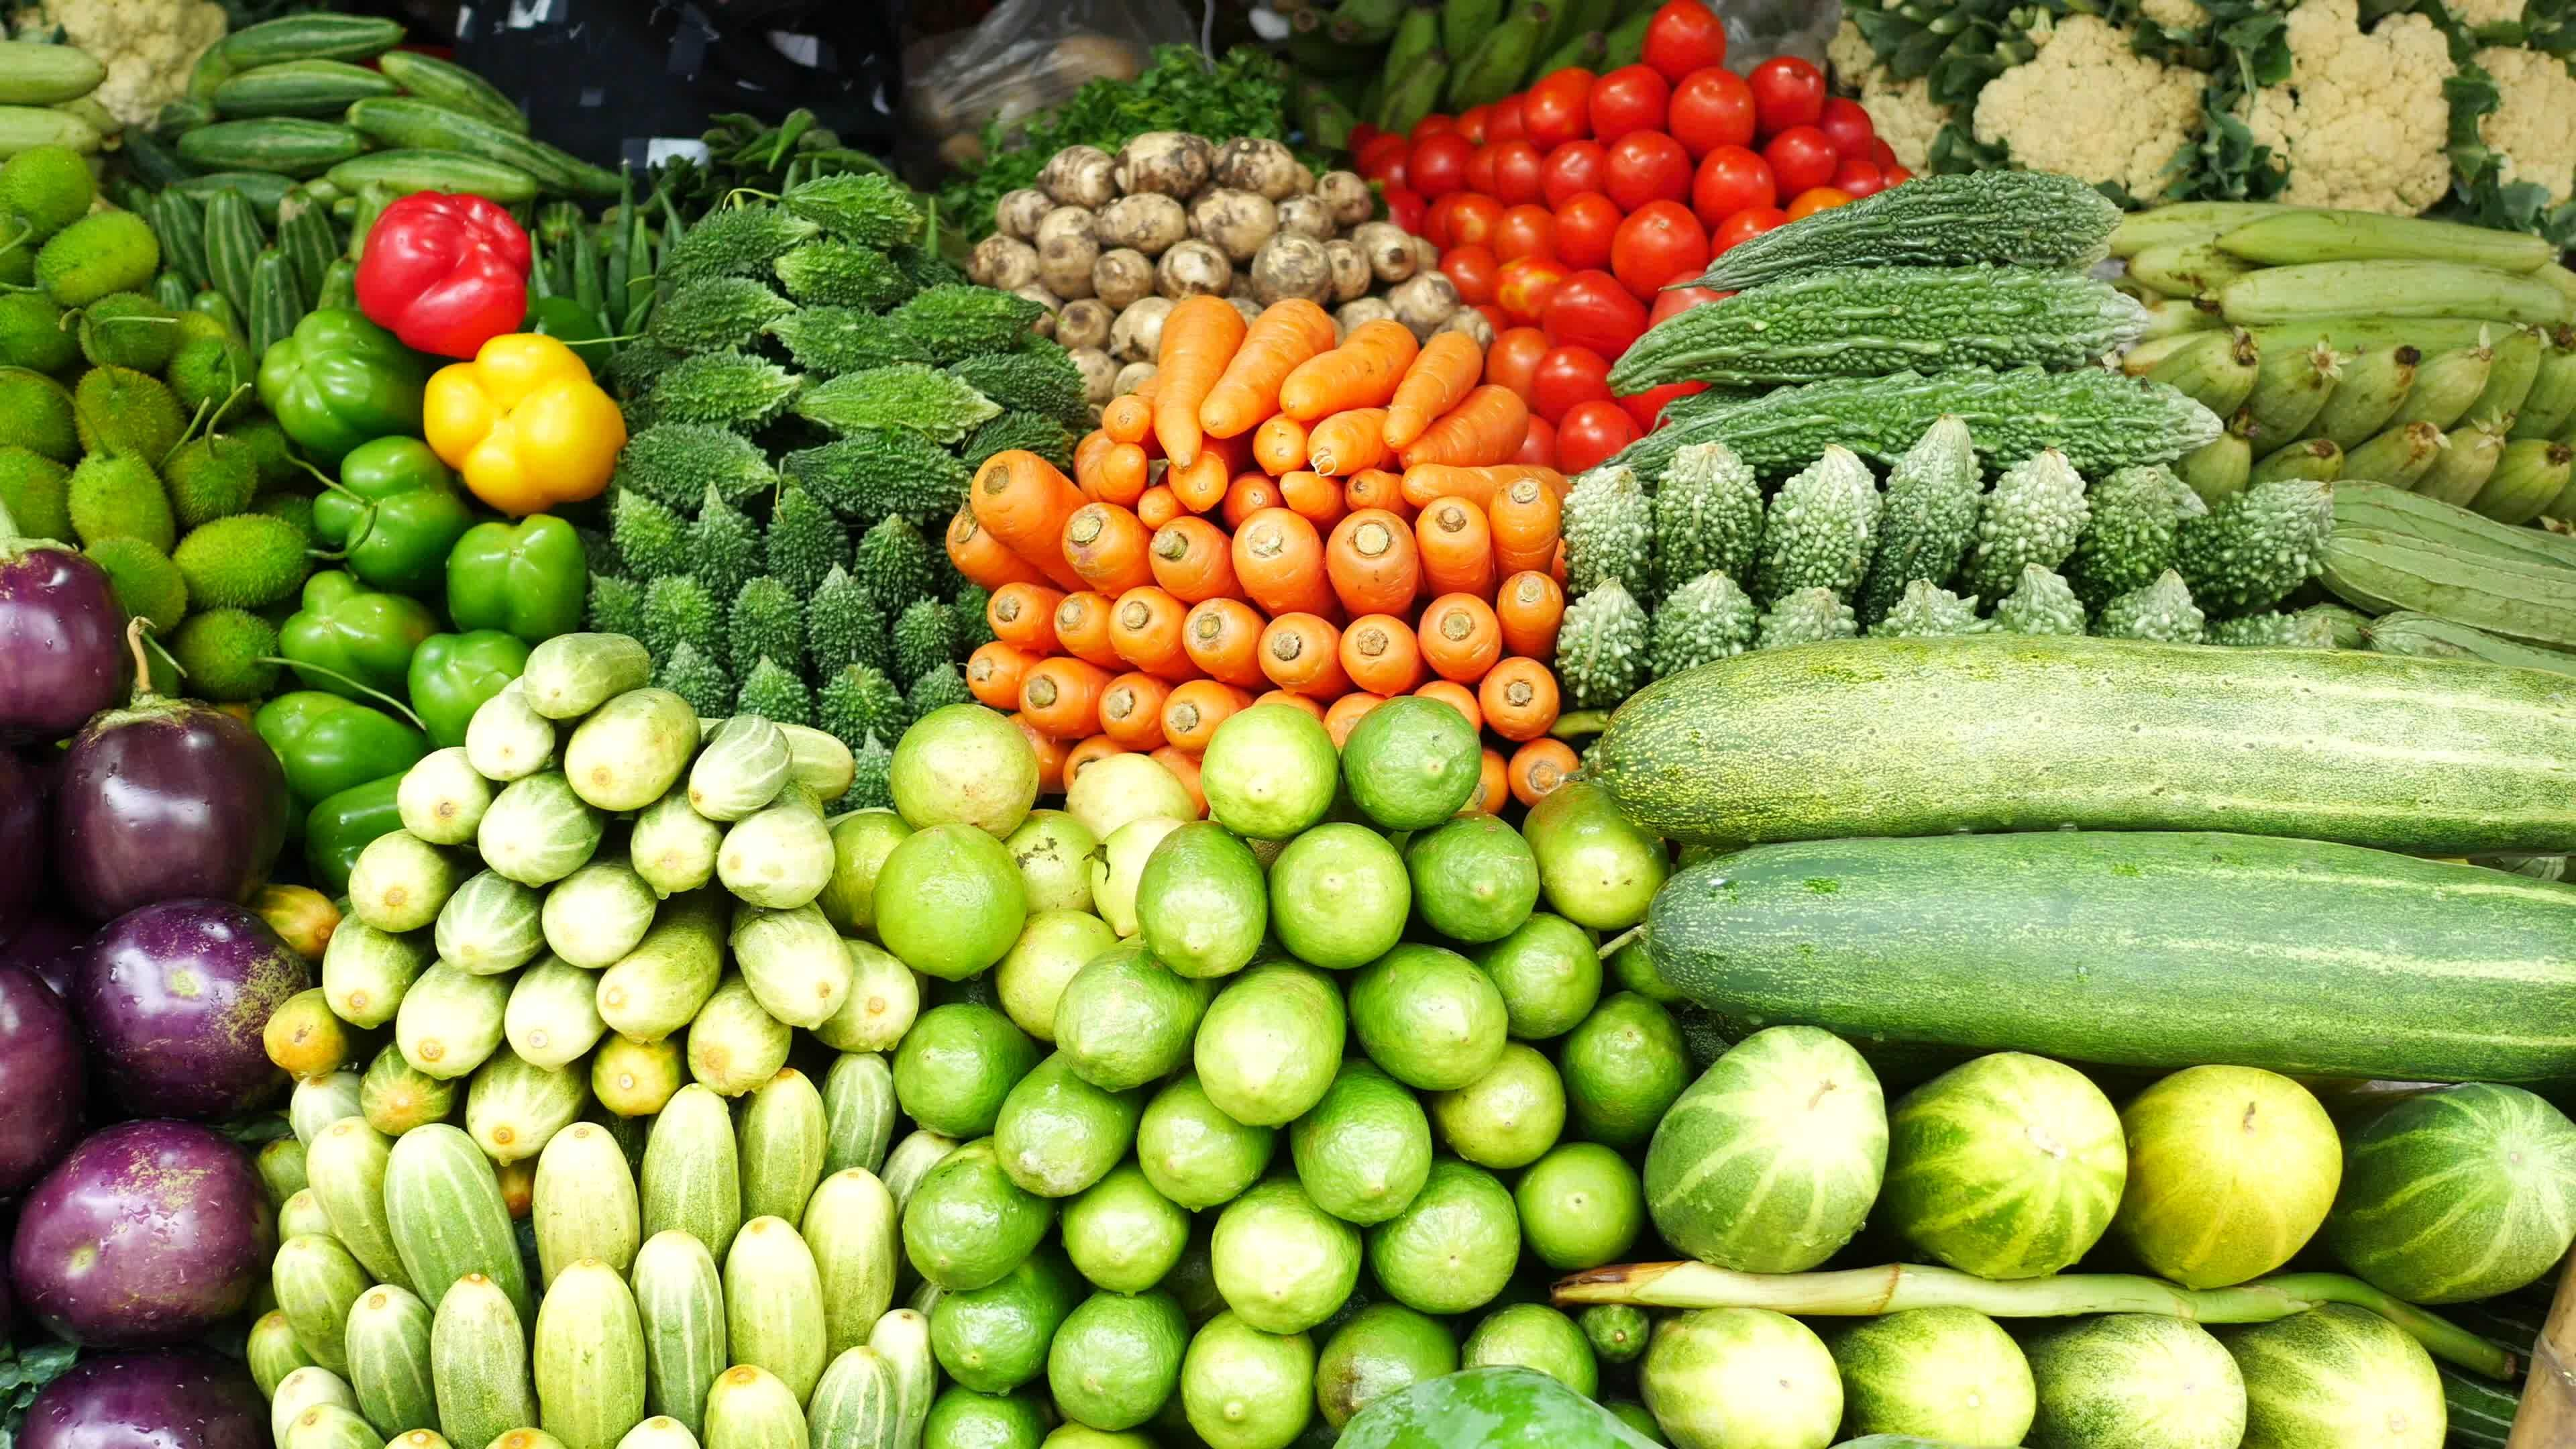carrot: (945, 297, 1582, 814)
cucumber: (1601, 648, 2576, 1269), (265, 635, 879, 1449), (1591, 1297, 2525, 1447)
sweet pepper: (269, 191, 623, 844)
tomato: (1336, 0, 1920, 464)
